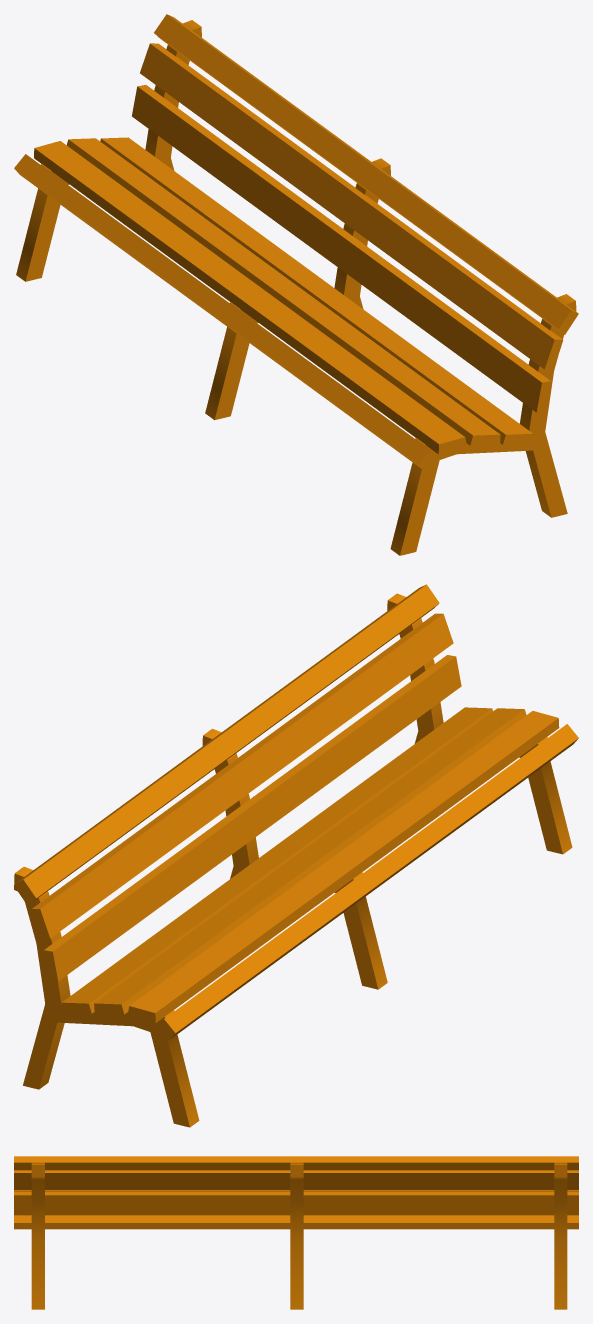
The model's file is Bench.FBX.
The picture shows the model from 3 angles, top to bottom: view 1: azimuth 30°, elevation 25°; view 2: azimuth 150°, elevation 25°; view 3: azimuth 270°, elevation 25°; orthographic projection. The views are drawn at different scales.
Parts seen in each view (by area): view 1: skameyka_1_08; view 2: skameyka_1_08; view 3: skameyka_1_08.
Part boxes in pixels (<box>): skameyka_1_08: <box>14,14,578,555</box>; skameyka_1_08: <box>14,584,578,1127</box>; skameyka_1_08: <box>14,1156,578,1309</box>.
Bounding box in the file's own units: 0.7624 × 0.8912 × 3.03.
